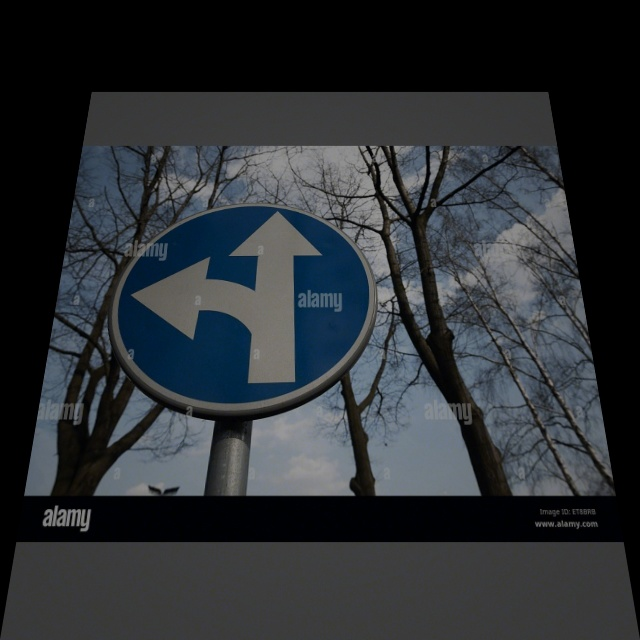Compulsory_Ahead_or_Turn_Left: (89, 199, 379, 413)
